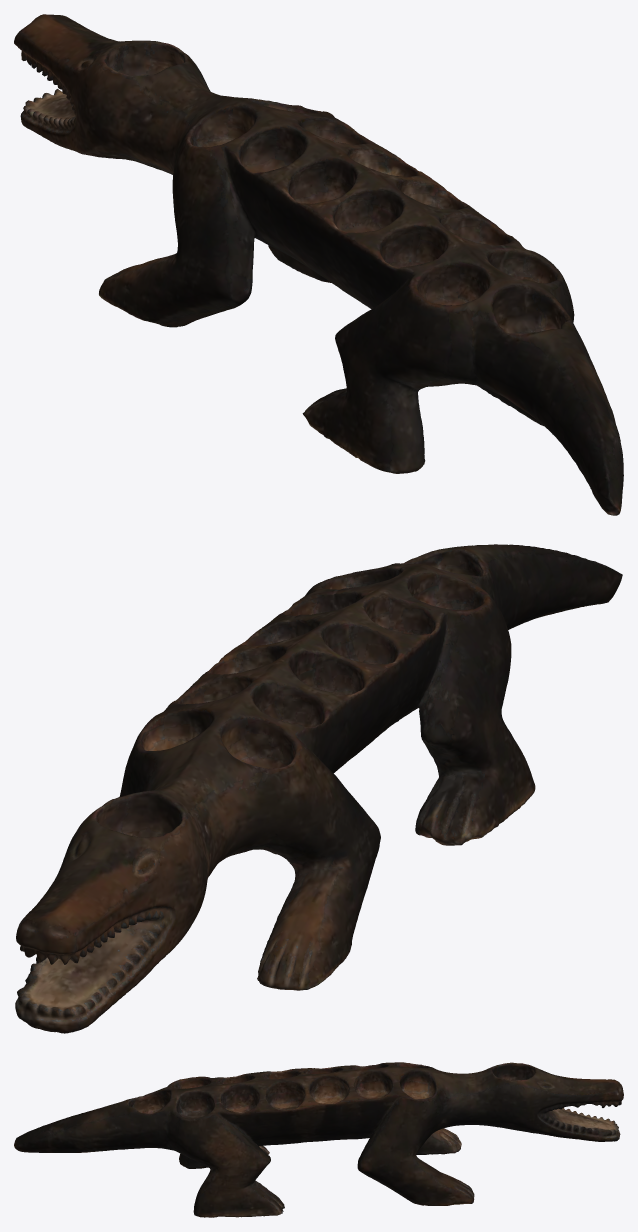
The model's file is preview.glb.
3 views of the same model, one above another, from view 1: azimuth 30°, elevation 25°; view 2: azimuth 150°, elevation 25°; view 3: azimuth 270°, elevation 25° (orthographic). The views are drawn at different scales.
Parts seen in each view (by area): view 1: Object_2; view 2: Object_2; view 3: Object_2.
Boxes of the visible parts, x1=… form: Object_2: x1=14, y1=14, x2=623, y2=515; Object_2: x1=15, y1=544, x2=622, y2=1033; Object_2: x1=14, y1=1062, x2=623, y2=1217.
Bounding box in the file's own units: 277 × 212 × 1007.
Materials: 1 (1 with a texture image).
